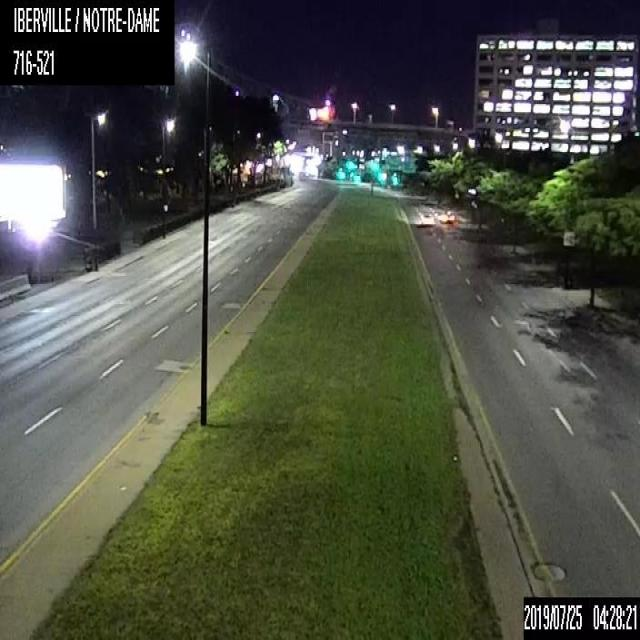vehicle: (418, 211, 436, 225), (446, 210, 456, 222)
